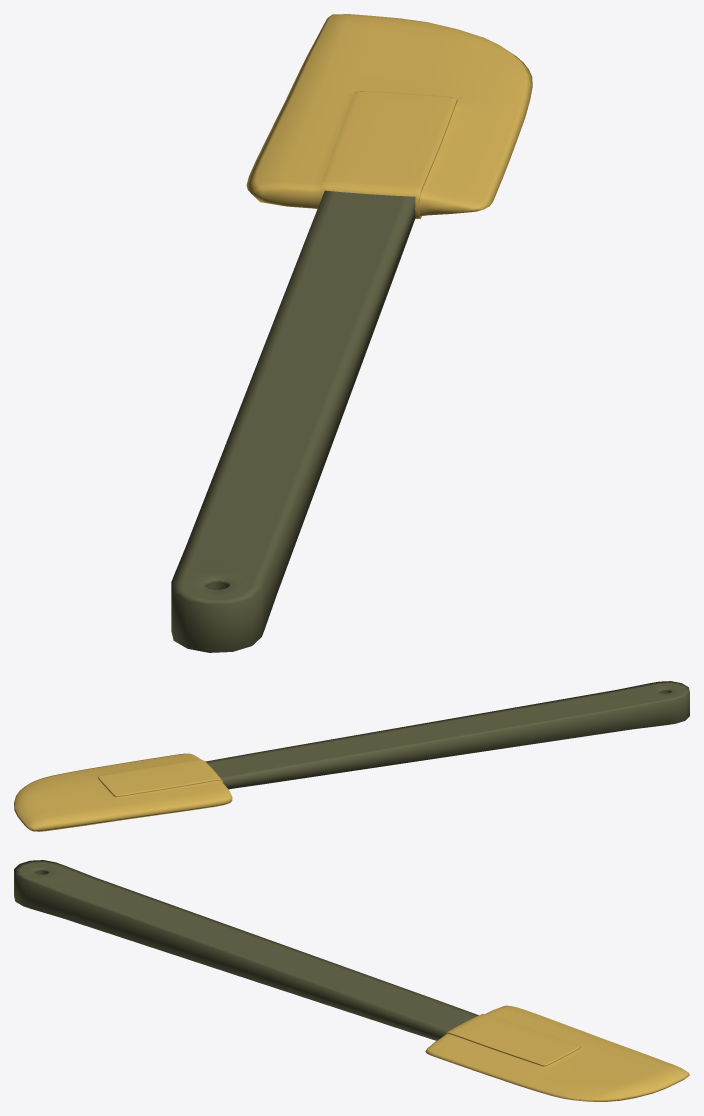
Rendered from paleta.fbx.
3 views of the same model, one above another, from view 1: azimuth 30°, elevation 25°; view 2: azimuth 150°, elevation 25°; view 3: azimuth 270°, elevation 25° (orthographic). The views are drawn at different scales.
Parts seen in each view (by area): view 1: Paleta, polySurface17; view 2: Paleta, polySurface17; view 3: Paleta, polySurface17.
Part boxes in pixels (x1=…): Paleta: x1=171, y1=190, x2=415, y2=652; polySurface17: x1=246, y1=14, x2=532, y2=218; Paleta: x1=205, y1=681, x2=689, y2=789; polySurface17: x1=14, y1=753, x2=232, y2=831; Paleta: x1=14, y1=860, x2=478, y2=1040; polySurface17: x1=425, y1=1005, x2=689, y2=1101.
Size of the model in its own units: 1.12 by 0.0618 by 1.4.
